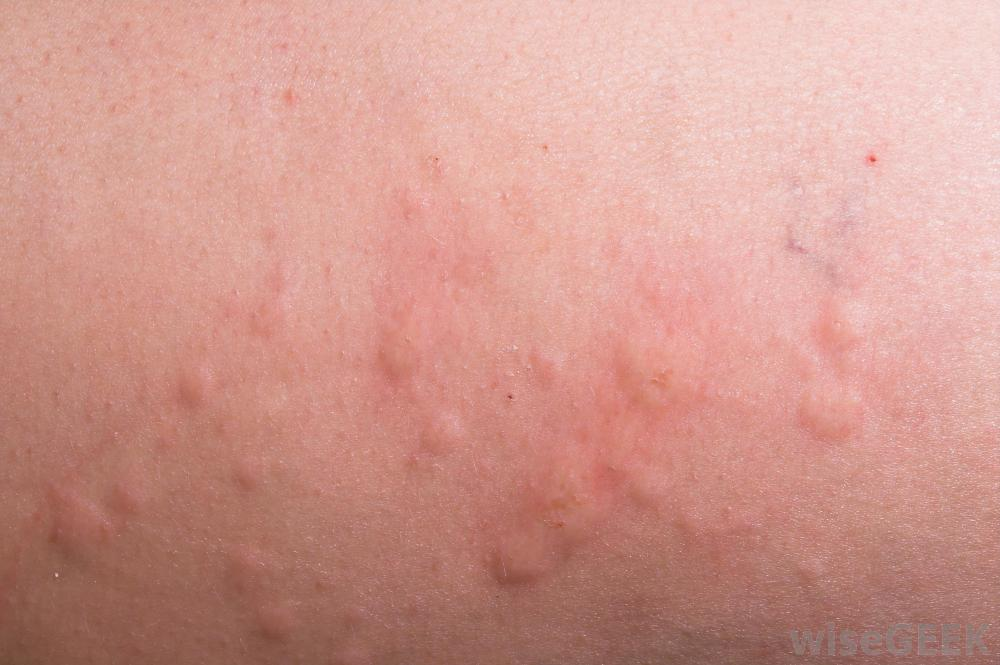Hives: (430, 299, 737, 592)
